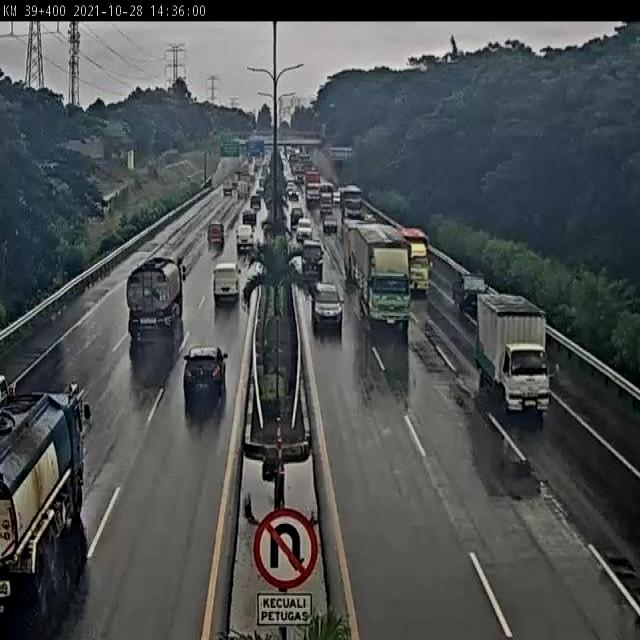Car: (183, 348, 229, 402), (309, 280, 345, 337), (453, 268, 489, 316), (206, 221, 225, 245), (295, 218, 314, 242), (323, 214, 339, 235), (289, 208, 303, 226), (241, 209, 257, 222), (249, 196, 263, 210)
Truck: (1, 368, 97, 640), (476, 292, 560, 417), (353, 220, 413, 327), (126, 255, 188, 342), (398, 224, 434, 295), (341, 186, 364, 219), (320, 184, 335, 216), (305, 171, 320, 203)
Van: (213, 261, 242, 304), (301, 240, 326, 281), (236, 225, 254, 252)
